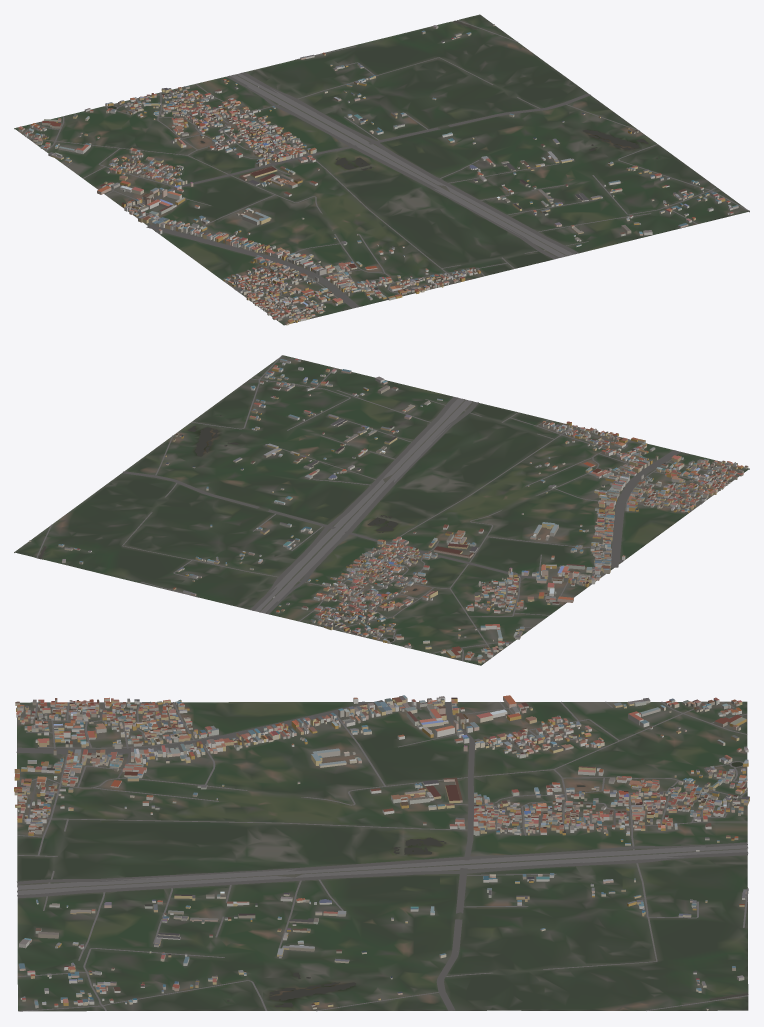
3 renders of one model, top to bottom at view 1: azimuth 30°, elevation 25°; view 2: azimuth 150°, elevation 25°; view 3: azimuth 270°, elevation 25°, orthographic. The views are drawn at different scales.
Visible parts, largest first — view 1: ground, buildings, roads, water; view 2: ground, buildings, roads, water; view 3: ground, buildings, roads, water.
Boxes of the visible parts, x1,y1,x2,y2 form: ground: (14,14,749,325); buildings: (18,24,738,325); roads: (23,20,749,319); water: (108,20,657,170); ground: (14,355,749,665); buildings: (29,358,748,663); roads: (36,355,740,661); water: (39,415,417,641); ground: (17,701,748,1011); buildings: (14,695,749,1010); roads: (16,700,748,1011); water: (227,762,748,1007).
Bounding box in the file's own units: 1418 × 23.34 × 1413.
